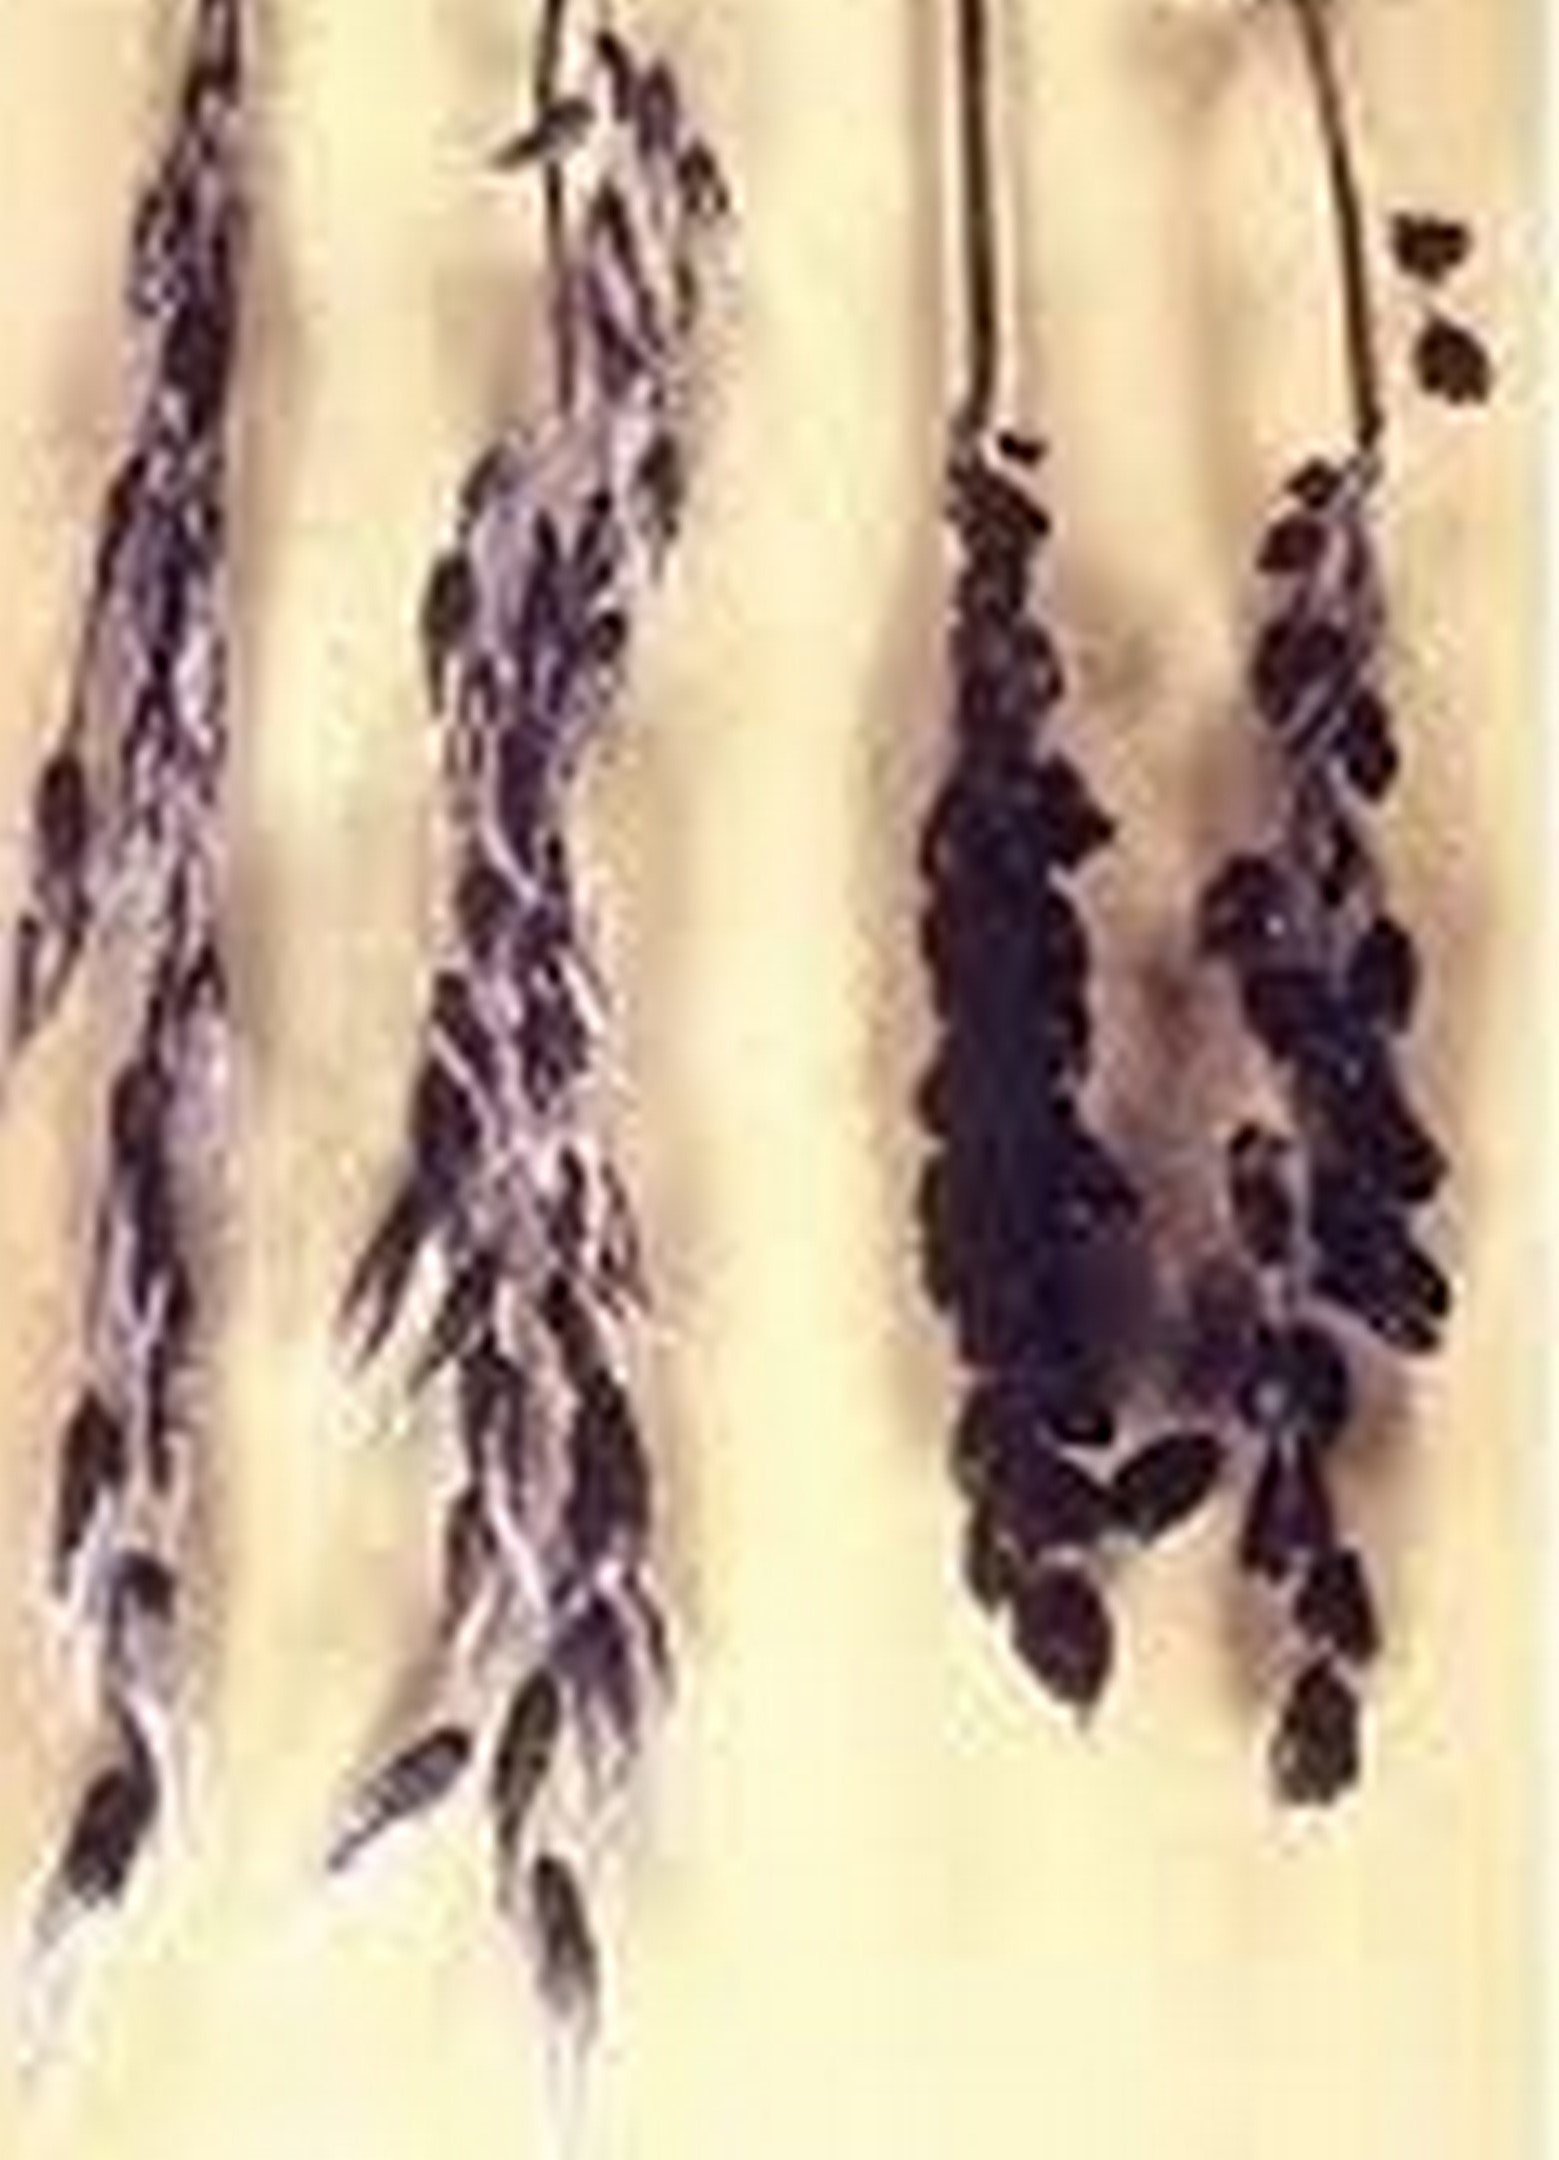Wheat Loose Smut: (13, 97, 736, 1969), (910, 384, 1559, 1880)
